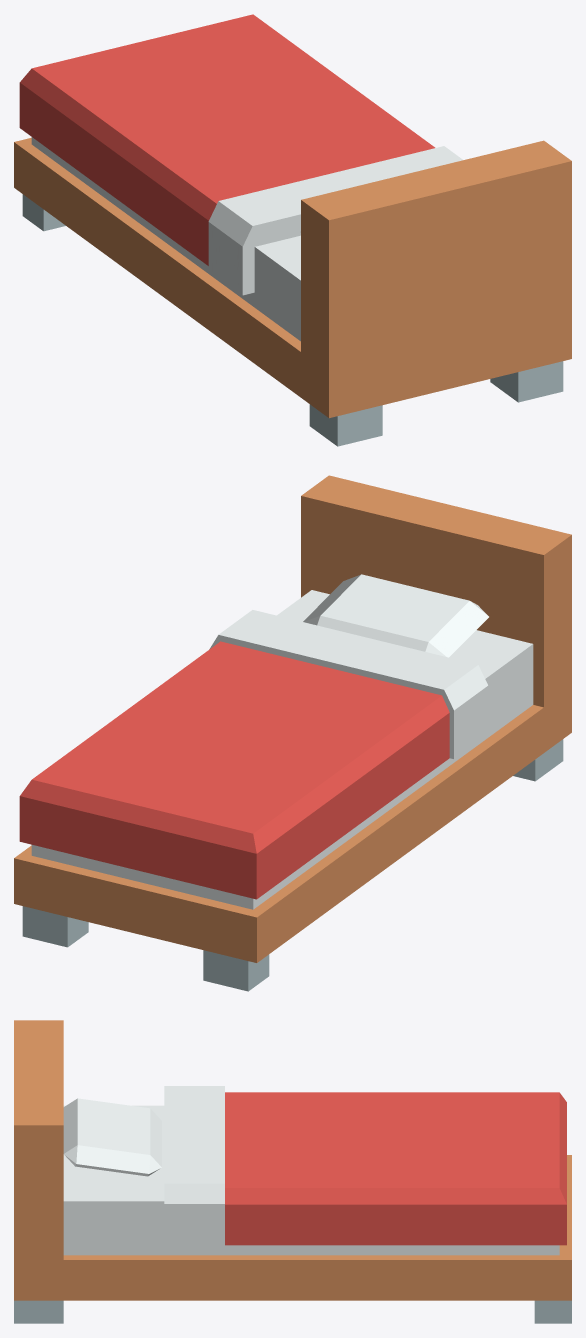
Rendered from furn-bed-single.glb.
3 renders of one model, top to bottom at view 1: azimuth 30°, elevation 25°; view 2: azimuth 150°, elevation 25°; view 3: azimuth 270°, elevation 25°, orthographic. The views are drawn at different scales.
Parts seen in each view (by area): view 1: bedSingle, cover; view 2: cover, bedSingle, pillow; view 3: cover, bedSingle, pillow.
Part boxes in pixels (<box>): bedSingle: <box>14,137,571,446</box>; cover: <box>19,14,463,295</box>; cover: <box>19,610,488,899</box>; bedSingle: <box>14,475,571,991</box>; pillow: <box>303,574,488,657</box>; cover: <box>164,1086,566,1246</box>; bedSingle: <box>14,1020,571,1323</box>; pillow: <box>63,1098,161,1176</box>.
Bounding box in the file's own units: 0.9 × 0.8 × 2.
